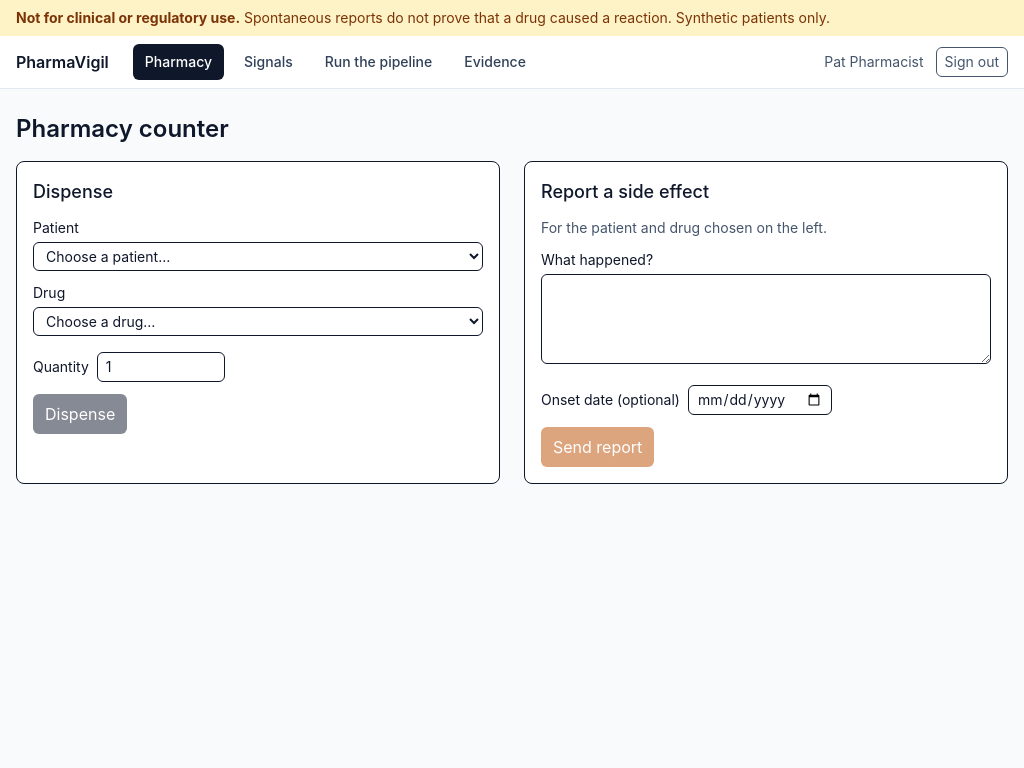
Test: PharmacyPage › dispenses and shows the FEFO lot and the evidence with the causation note
Step 1. Select "Example, Ana (1970-02-03)" in the dropdown labelled "Patient" → (258, 256), box 33,242 -> 483,271
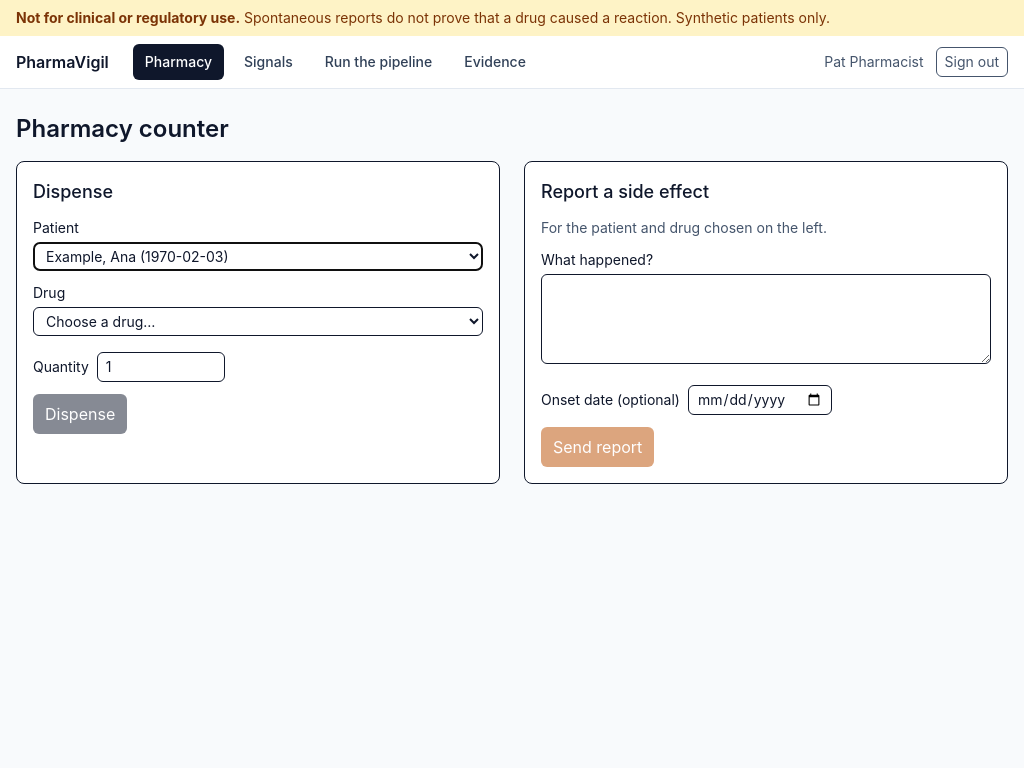
Step 2. Select "Atorvastatin 20 mg — 40 in date" in the dropdown labelled "Drug" → (258, 322), box 33,307 -> 483,336
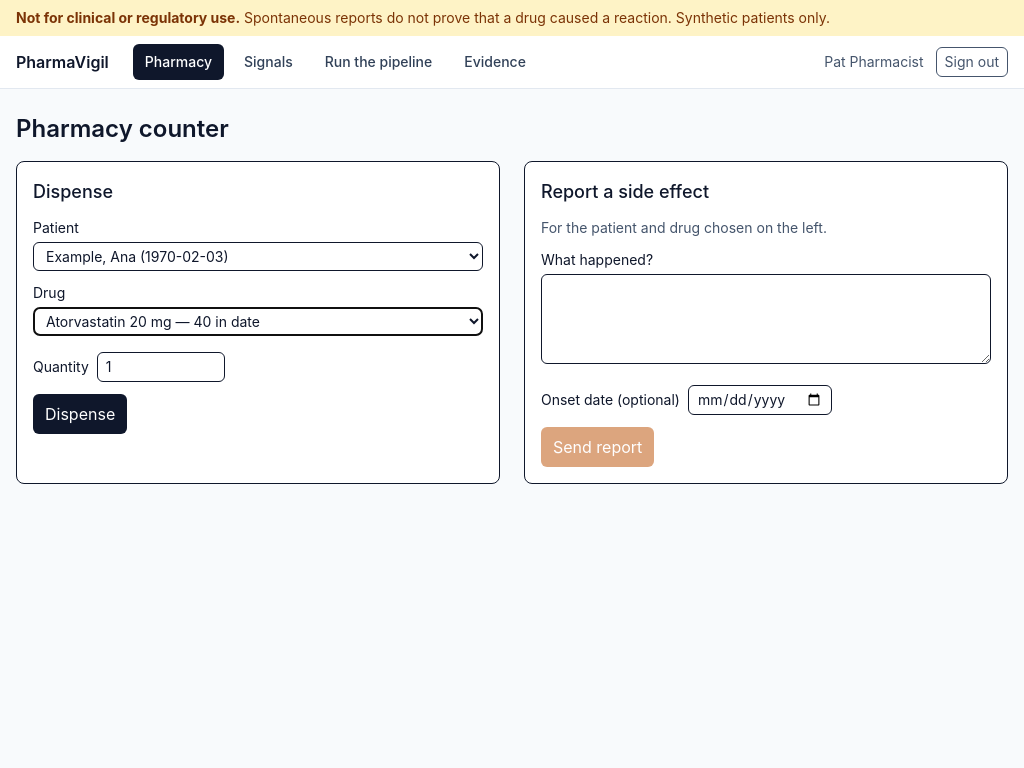
Step 3. Replace the text in the number field labelled "Quantity" with "2" → (161, 367), box 97,352 -> 225,382
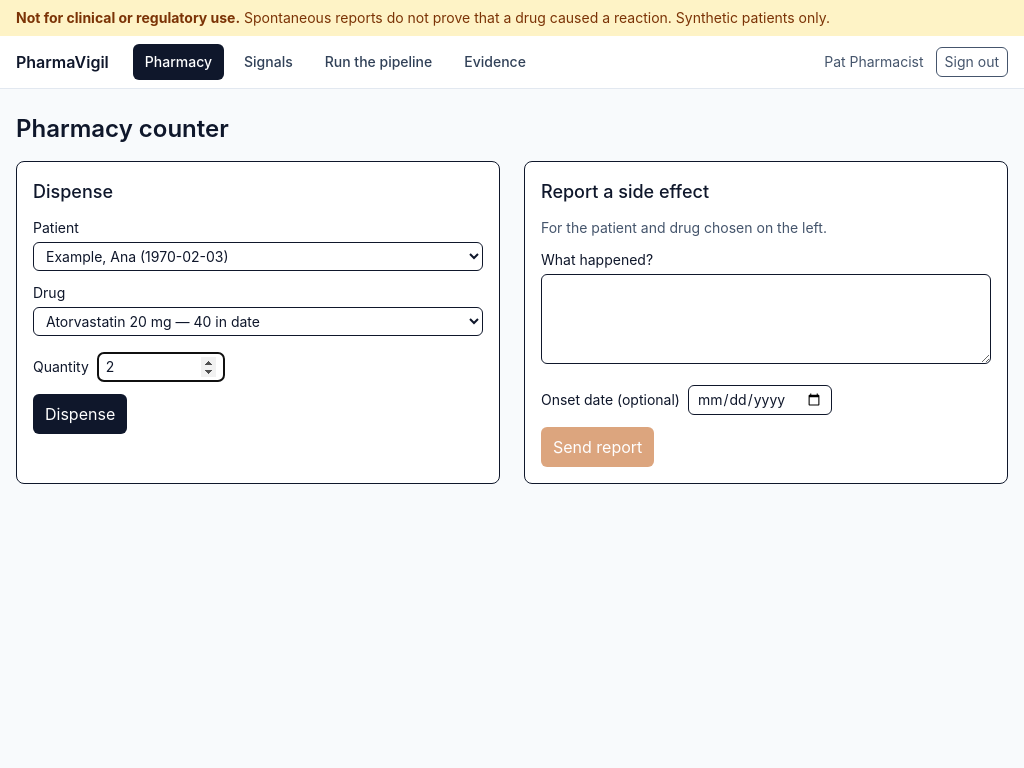
Step 4. Click the button "Dispense" → click(80, 414), box 33,394 -> 127,434
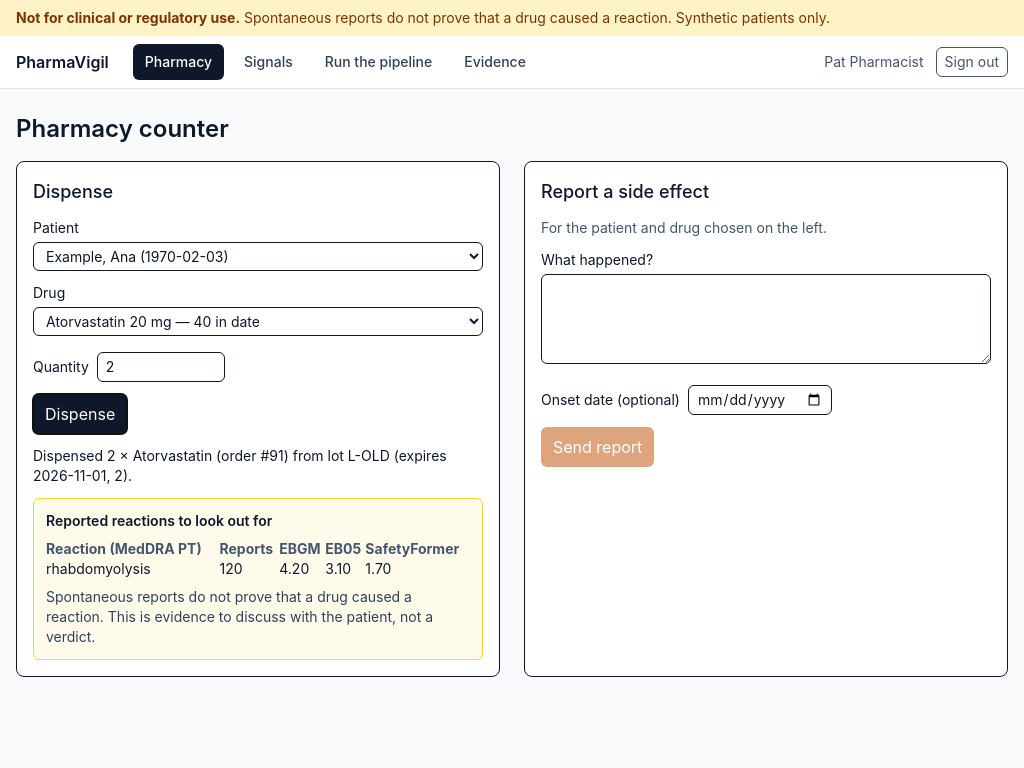
Now the text "L-OLD (expires 2026-11-01, 2)" is shown, box 33,447 -> 447,484
Now the text "rhabdomyolysis" is shown, box 46,559 -> 220,579
Now the element named "Safety evidence" shows "Spontaneous reports do not prove that a drug caused a reaction.", box 46,588 -> 412,625
